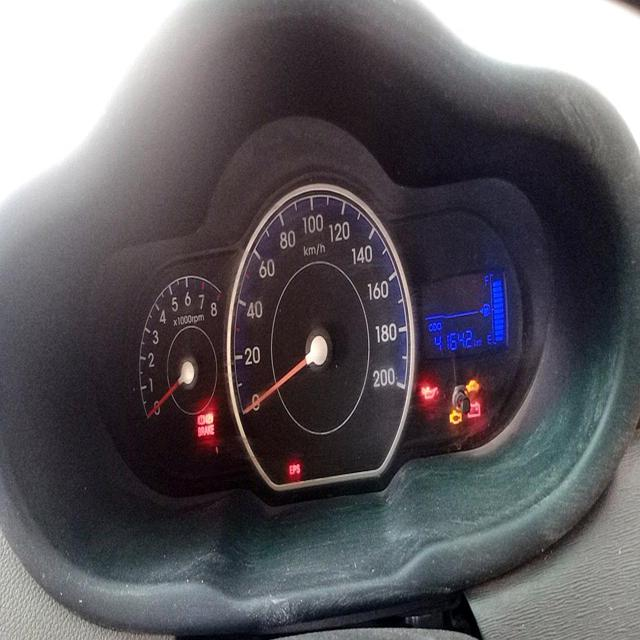odometer: (433, 326, 474, 352)
